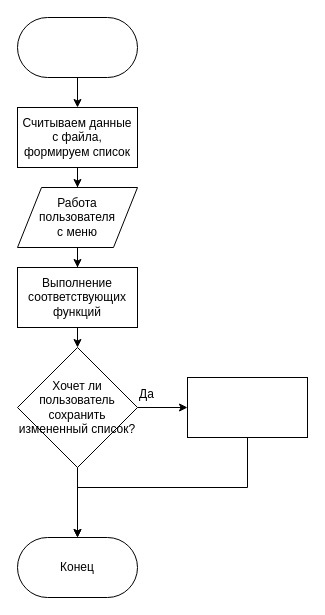
Some shapes in this 325 by 615 pixel diagram are drawn without their labels. The centre of each missing label's shape, as x and y in pixels:
"Начало" belongs at (77,47).
"Сохранить изменения в файл" belongs at (247,407).
